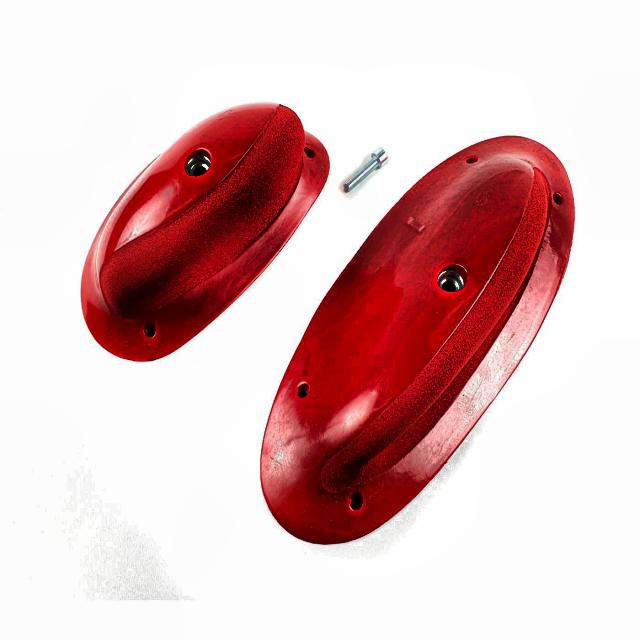Hold: (265, 127, 575, 546), (78, 101, 326, 362)
